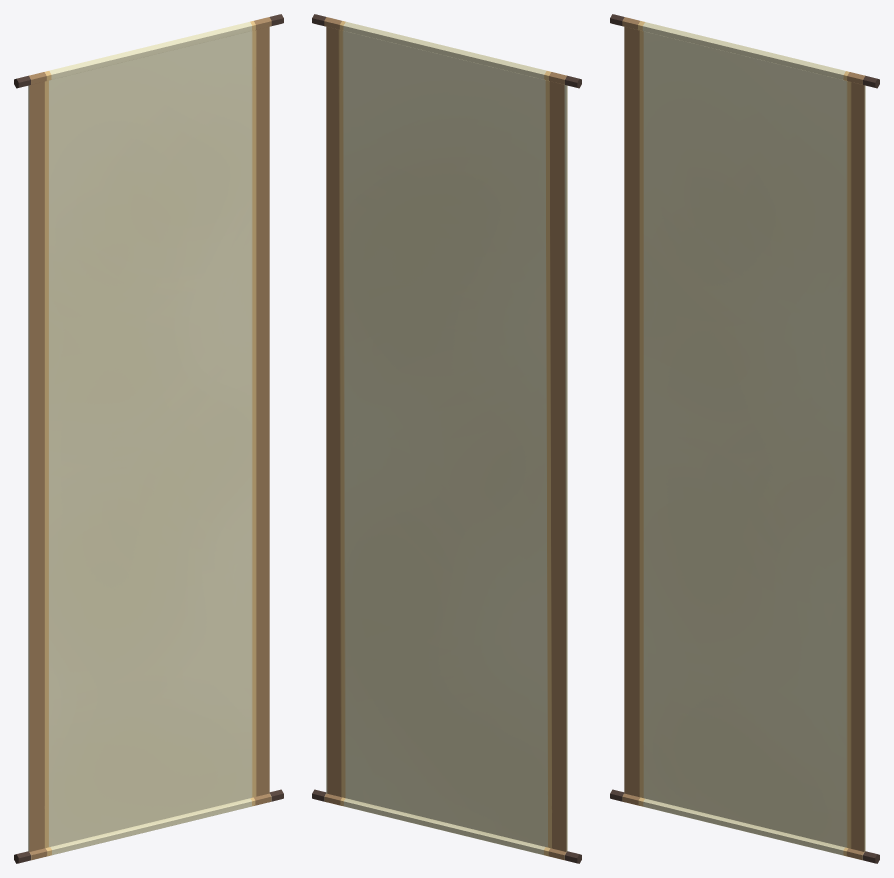
The model's file is 40h_kakejiku.fbx.
The picture shows the model from 3 angles, left to right: view 1: azimuth 30°, elevation 25°; view 2: azimuth 150°, elevation 25°; view 3: azimuth 330°, elevation 25°; orthographic projection.
Visible parts, largest first — view 1: pCylinder3; view 2: pCylinder3; view 3: pCylinder3.
Boxes of the visible parts, left/top/right/bottom form: pCylinder3: left=14, top=14, right=283, bottom=863; pCylinder3: left=312, top=14, right=581, bottom=863; pCylinder3: left=610, top=14, right=879, bottom=863.
Bounding box in the file's own units: 67.24 × 190 × 2.07.
